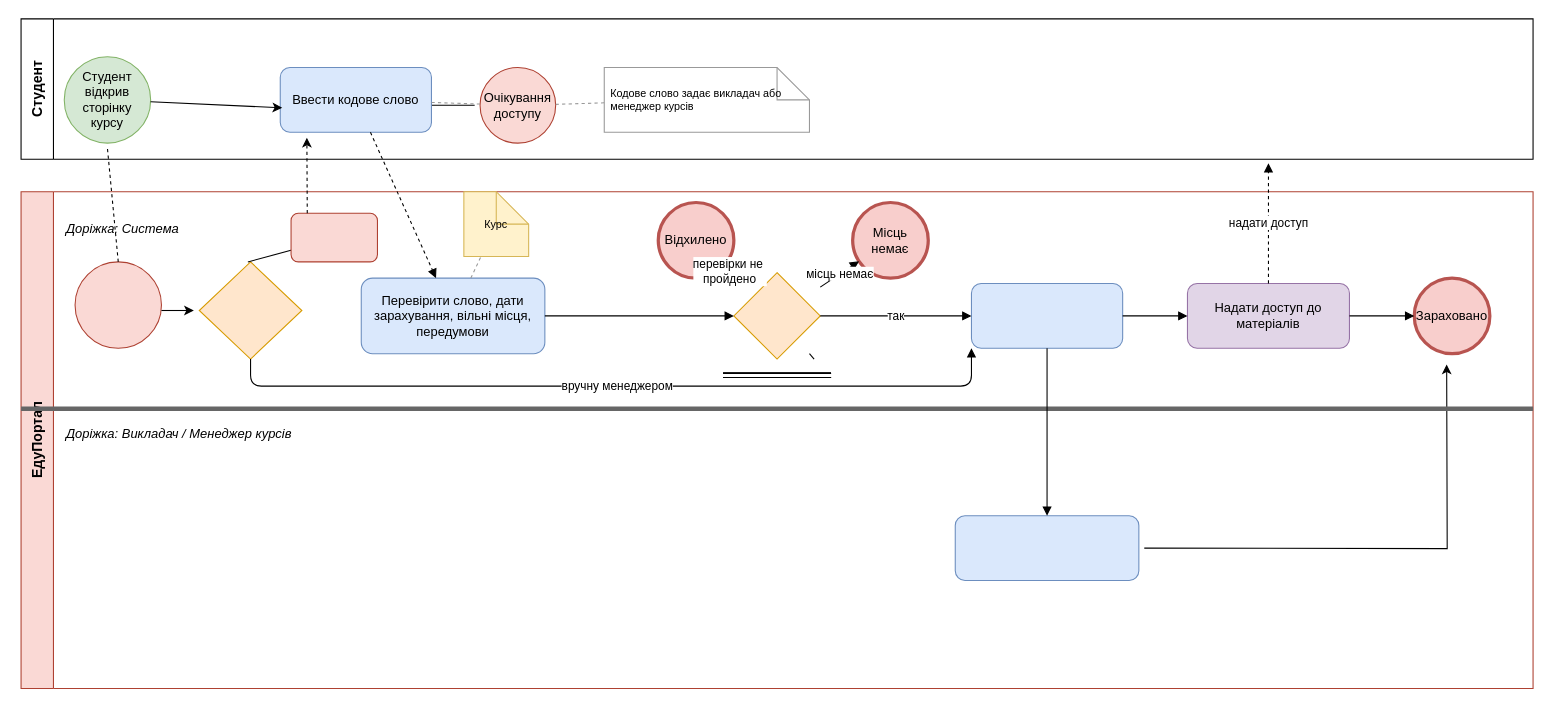
Some shapes in this 1553 by 707 pixel diagram are drawn without their labels. The centre of each missing label's shape, as x and y in pixels:
Запросити кодове слово: (x=333, y=237)
Метод зарахування?: (x=250, y=310)
Отримано запит на сторінку: (x=117, y=304)
Перевірки пройдено?: (x=776, y=315)
Побачити студента у списку учасників: (x=1046, y=547)
Створити зарахування: (x=1046, y=315)
